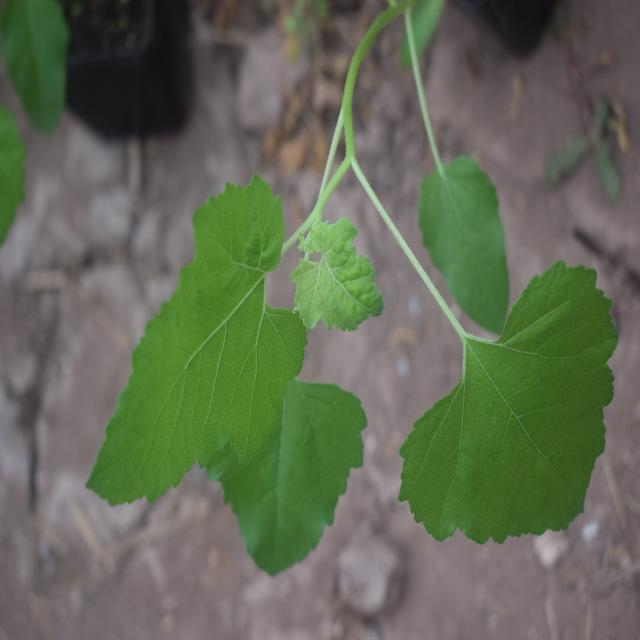cocklebur: (107, 140, 606, 568)
